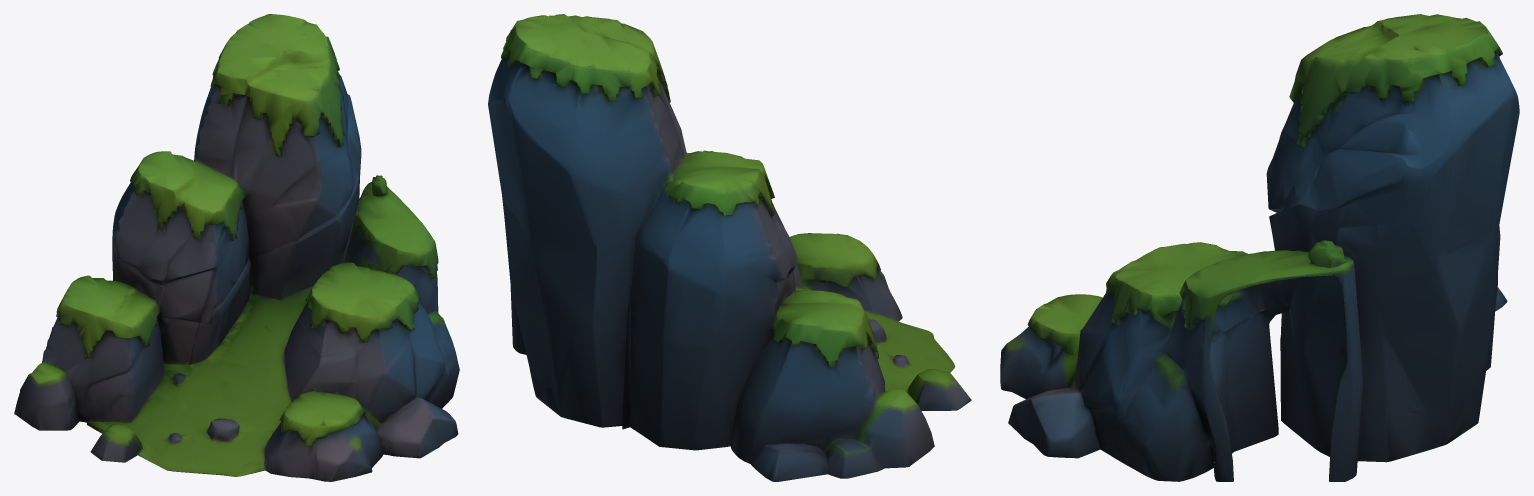
The model's file is slope_stone.glb.
3 views of the same model, side by side, from view 1: azimuth 30°, elevation 25°; view 2: azimuth 150°, elevation 25°; view 3: azimuth 270°, elevation 25° (orthographic). The views are drawn at different scales.
Visible parts, largest first — view 1: node_0; view 2: node_0; view 3: node_0.
Boxes of the visible parts, box(x1,y1,x2,y2) form: node_0: box(14, 14, 459, 481); node_0: box(488, 14, 971, 481); node_0: box(1000, 14, 1519, 481).
Bounding box in the file's own units: 0.8623 × 0.7209 × 0.8318.
Materials: 1 (1 with a texture image).
